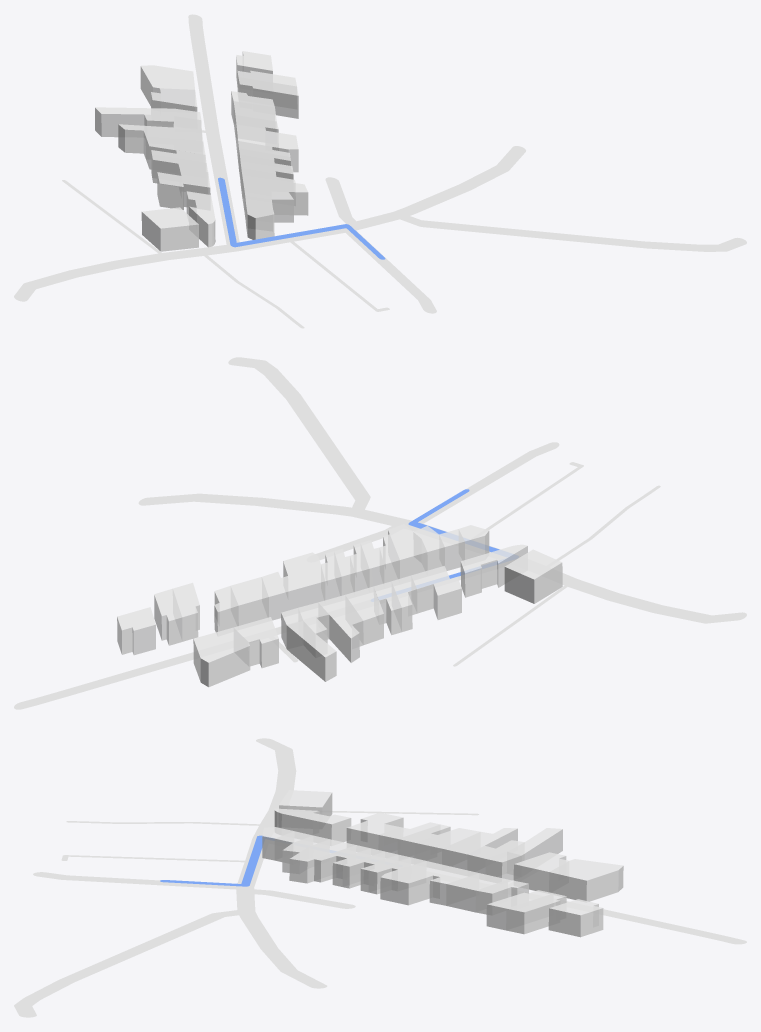
The model's file is lavant-test.gltf.
3 renders of one model, top to bottom at view 1: azimuth 30°, elevation 25°; view 2: azimuth 150°, elevation 25°; view 3: azimuth 270°, elevation 25°, orthographic. The views are drawn at different scales.
Visible parts, largest first — view 1: osm-27, osm-31, osm-22, osm-34, osm-32, osm-17, osm-1, osm-5, osm-24, osm-23, osm-19, route (+14 smaller); view 2: osm-31, osm-17, osm-27, osm-19, osm-22, osm-34, osm-32, osm-1, osm-0, osm-23, osm-5, osm-26 (+21 smaller); view 3: osm-17, osm-19, osm-31, osm-0, osm-34, osm-26, osm-32, osm-25, osm-1, osm-27, osm-5, osm-18 (+23 smaller).
Boxes of the visible parts, box(x1,y1,x2,y2) form: osm-27: box(188, 14, 240, 251); osm-31: box(391, 211, 746, 251); osm-22: box(141, 207, 198, 251); osm-34: box(14, 245, 240, 301); osm-32: box(366, 146, 525, 224); osm-17: box(235, 115, 298, 172); osm-1: box(157, 168, 210, 209); osm-5: box(118, 124, 203, 158); osm-24: box(238, 77, 298, 118); osm-23: box(95, 107, 174, 137); osm-19: box(140, 65, 194, 105); route: box(218, 177, 385, 259); osm-31: box(228, 357, 370, 516); osm-17: box(262, 552, 325, 620); osm-27: box(14, 563, 508, 709); osm-19: box(193, 627, 250, 687); osm-22: box(504, 549, 562, 603); osm-34: box(519, 556, 746, 623); osm-32: box(138, 493, 390, 522); osm-1: box(411, 566, 461, 619); osm-0: box(460, 544, 527, 597); osm-23: box(286, 621, 336, 681); osm-5: box(318, 595, 363, 662); osm-26: box(117, 607, 155, 655); osm-17: box(380, 861, 478, 905); osm-19: box(549, 859, 623, 901); osm-31: box(14, 909, 255, 1017); osm-0: box(274, 808, 351, 842); osm-34: box(253, 738, 296, 837); osm-26: box(548, 899, 603, 937); osm-32: box(236, 897, 327, 988); osm-25: box(506, 893, 566, 934); osm-1: box(346, 812, 403, 849); osm-27: box(252, 837, 746, 944); osm-5: box(442, 828, 517, 870); osm-18: box(513, 852, 568, 892).
Bounding box in the file's own units: 27.53 × 1.22 × 30.3.
